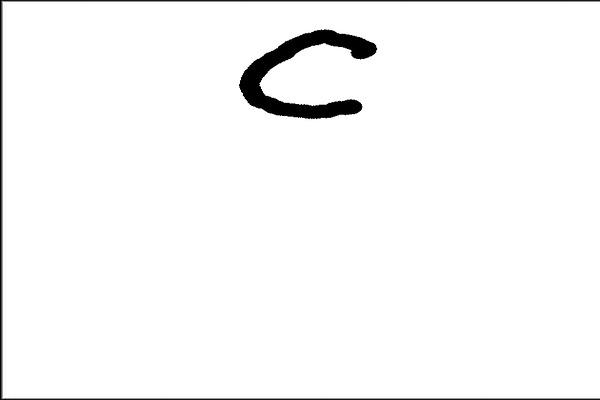C: (231, 22, 383, 126)
